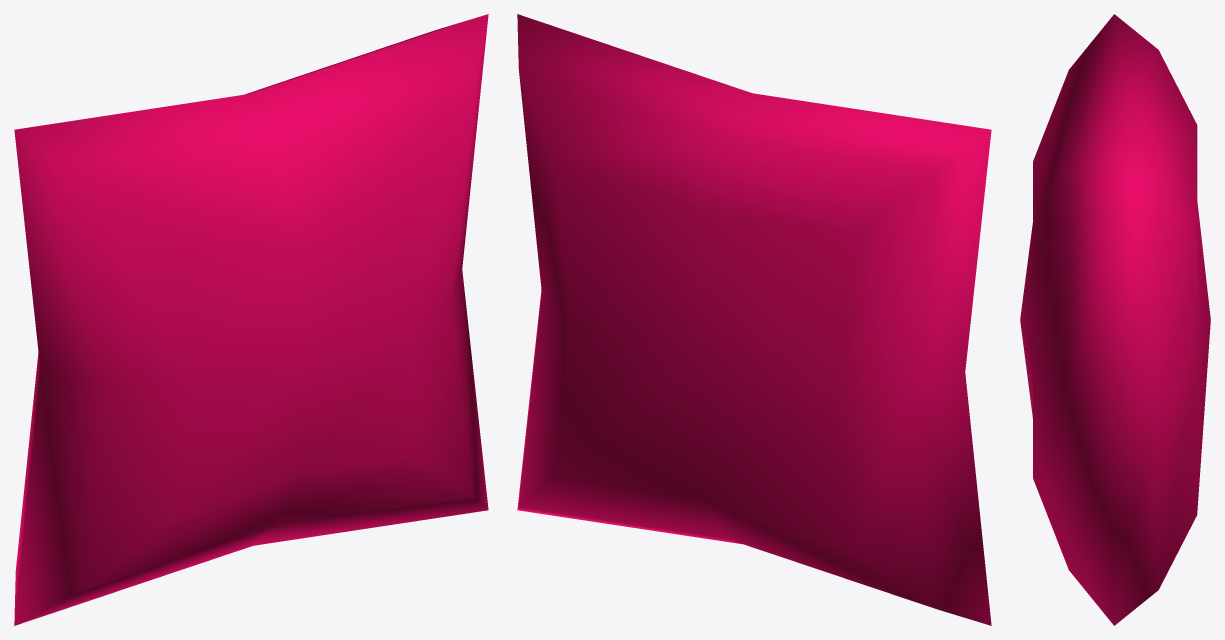
Rendered from Sofa_04_Pillow_03_Lod1.fbx.
3 views of the same model, side by side, from view 1: azimuth 30°, elevation 25°; view 2: azimuth 150°, elevation 25°; view 3: azimuth 270°, elevation 25° (orthographic). The views are drawn at different scales.
Visible parts, largest first — view 1: Sofa_04_Pillow_03_Lod1; view 2: Sofa_04_Pillow_03_Lod1; view 3: Sofa_04_Pillow_03_Lod1.
Part boxes in pixels (left/top/right/bottom): Sofa_04_Pillow_03_Lod1: left=14, top=14, right=488, bottom=625; Sofa_04_Pillow_03_Lod1: left=517, top=14, right=991, bottom=625; Sofa_04_Pillow_03_Lod1: left=1020, top=14, right=1210, bottom=625.
Bounding box in the file's own units: 54.84 × 54.84 × 22.71.
